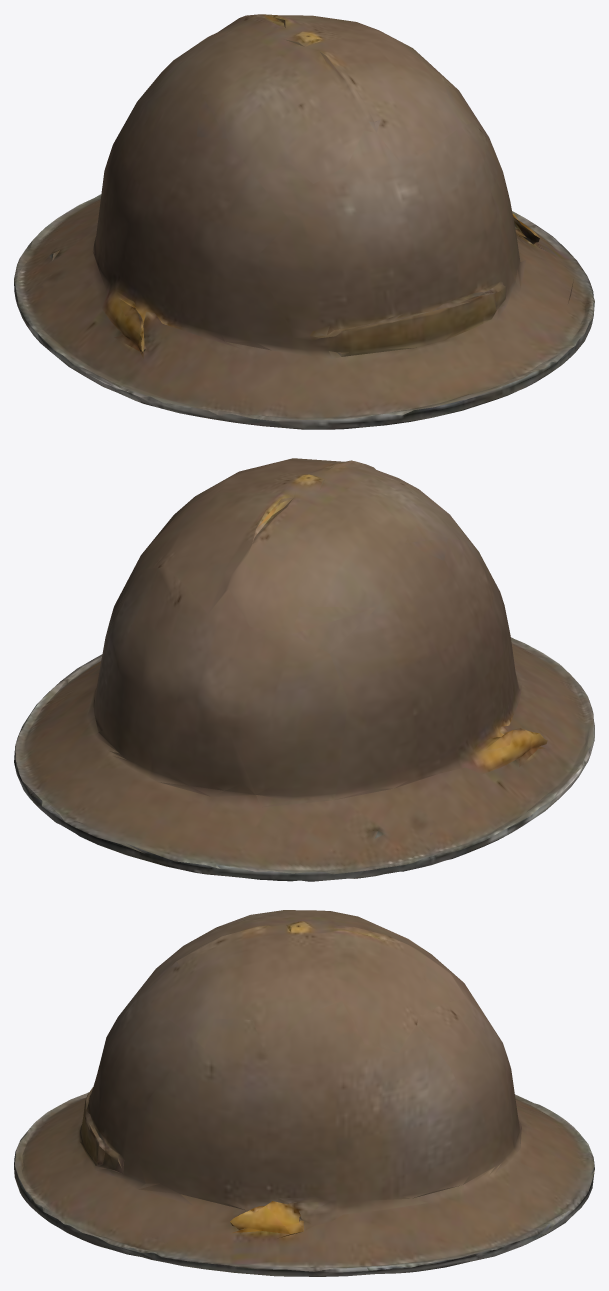
File: mk2_helmet.glb
The picture shows the model from 3 angles, top to bottom: view 1: azimuth 30°, elevation 25°; view 2: azimuth 150°, elevation 25°; view 3: azimuth 270°, elevation 25°; orthographic projection. The views are drawn at different scales.
Visible parts, largest first — view 1: mk2_helmet; view 2: mk2_helmet; view 3: mk2_helmet.
Boxes of the visible parts, x1,y1,x2,y2 form: mk2_helmet: [14, 14, 594, 429]; mk2_helmet: [14, 458, 594, 881]; mk2_helmet: [14, 910, 594, 1276].
Bounding box in the file's own units: 2.4 × 1.32 × 2.72.
Materials: 1 (1 with a texture image).
